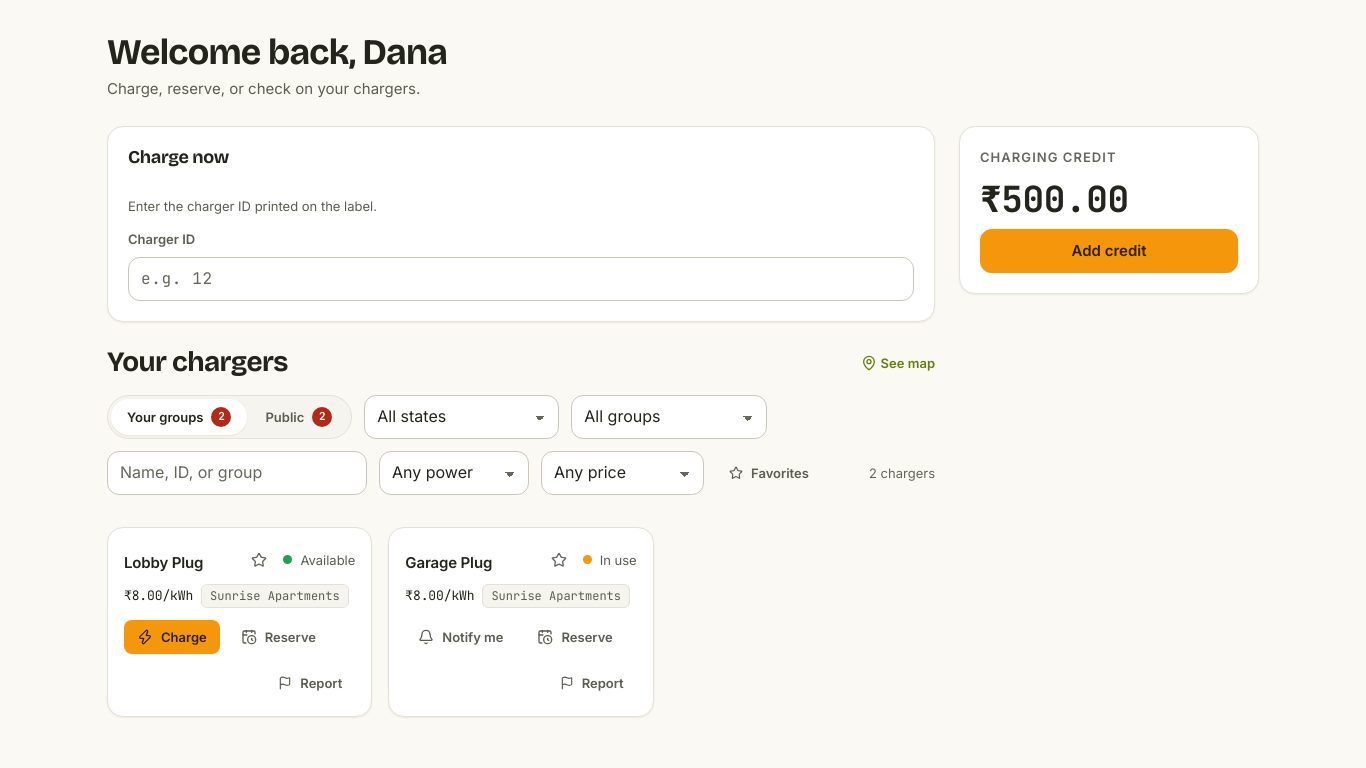
Test case: Dashboard — charge now lookup › an unknown id shows the inline "check the label" copy
The image size is (1366, 768).
Expected: the heading "Lobby Plug" is shown, x1=124 y1=553 x2=203 y2=572
Type "999" into the field labelled "Charger ID" at (521, 279), box x1=128 y1=257 x2=914 y2=301
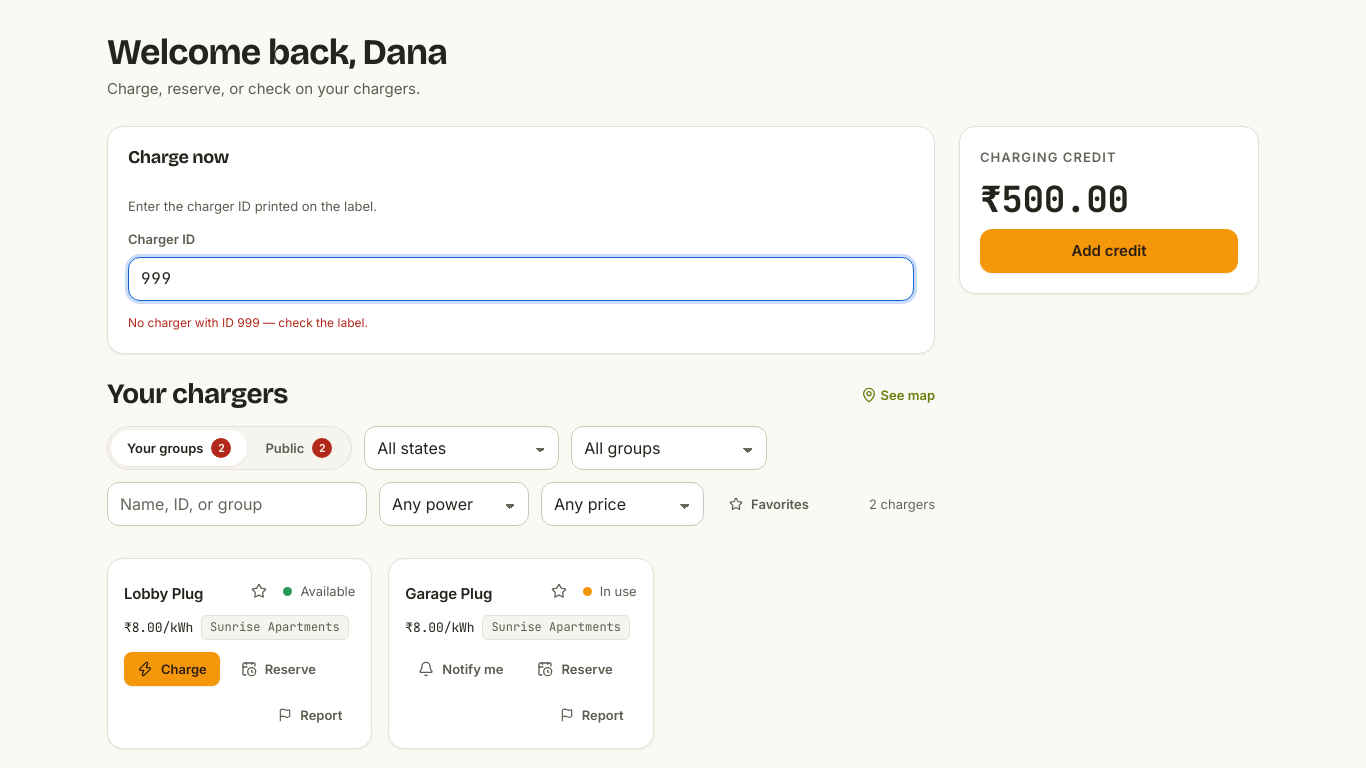
Result: the text "No charger with ID 999 — check the label." is shown at x1=128 y1=315 x2=368 y2=330
